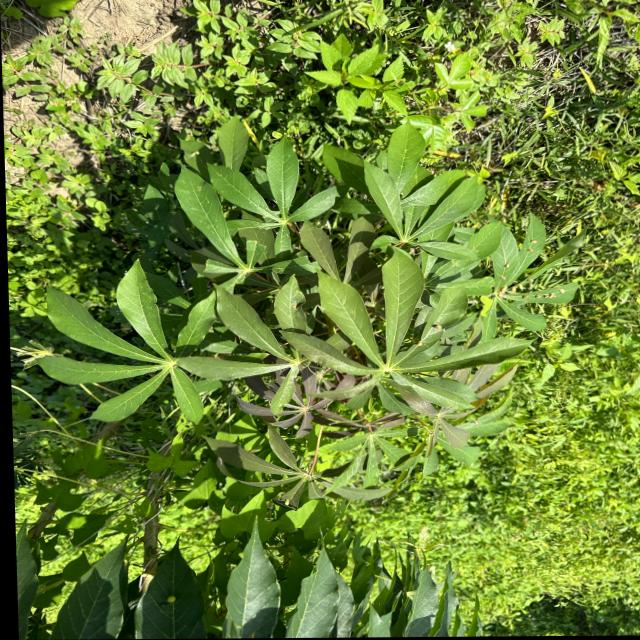Maleza: (280, 6, 627, 123), (368, 494, 640, 640), (0, 29, 173, 252), (514, 393, 640, 633), (72, 0, 326, 96), (493, 79, 640, 206), (34, 443, 209, 545), (607, 183, 640, 626)
Mosca: (520, 287, 569, 301), (426, 318, 453, 340), (159, 589, 186, 609), (498, 257, 513, 281), (528, 235, 543, 254)
